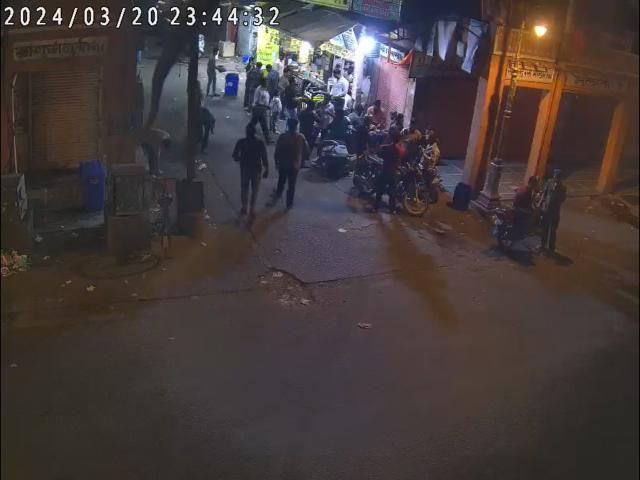person: (230, 124, 270, 223), (273, 120, 311, 210), (372, 128, 404, 218), (540, 170, 563, 258)
scooty: (321, 115, 364, 177)
